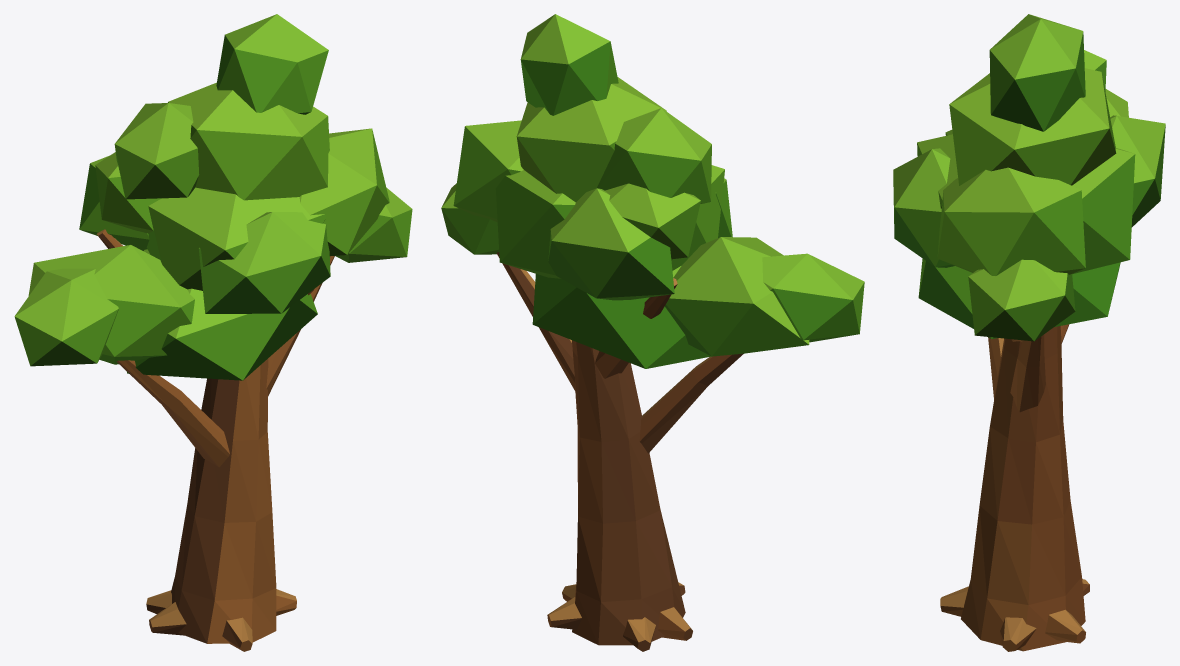
The picture shows the model from 3 angles, left to right: view 1: azimuth 30°, elevation 25°; view 2: azimuth 150°, elevation 25°; view 3: azimuth 270°, elevation 25°; orthographic projection. The views are drawn at different scales.
Parts seen in each view (by area): view 1: WK_RegularTree_LOD0_High; view 2: WK_RegularTree_LOD0_High; view 3: WK_RegularTree_LOD0_High.
Boxes of the visible parts, x1,y1,x2,y2 form: WK_RegularTree_LOD0_High: (14, 14, 412, 651); WK_RegularTree_LOD0_High: (441, 14, 864, 651); WK_RegularTree_LOD0_High: (893, 14, 1165, 651).
Size of the model in its own units: 4.6 by 6.57 by 2.54.
